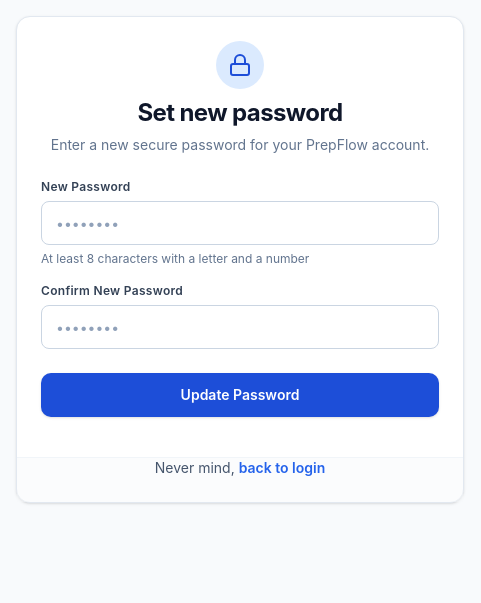
Test: Password Reset Pages Accessibility & Interactions (PF-008) › ResetPasswordPage › displays error alert when reset session is invalid or expired
Type "NewPassword123" into the password field labelled "New Password" at (240, 223), box [41, 201, 439, 245]
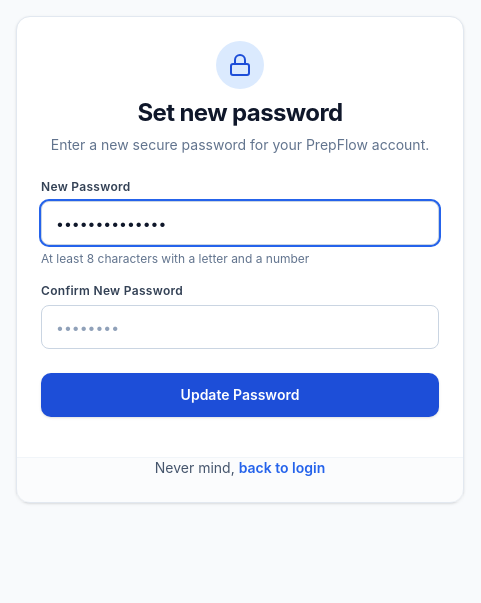
Type "NewPassword123" into the password field labelled "Confirm New Password" at (240, 327), box [41, 305, 439, 349]
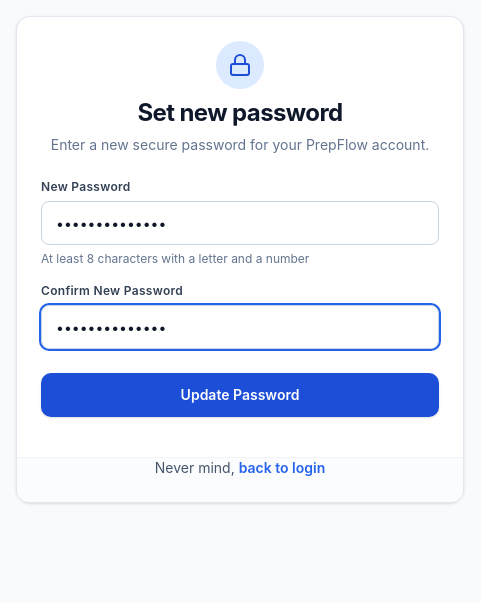
Click the button "Update Password" at (240, 395), box [41, 373, 439, 417]
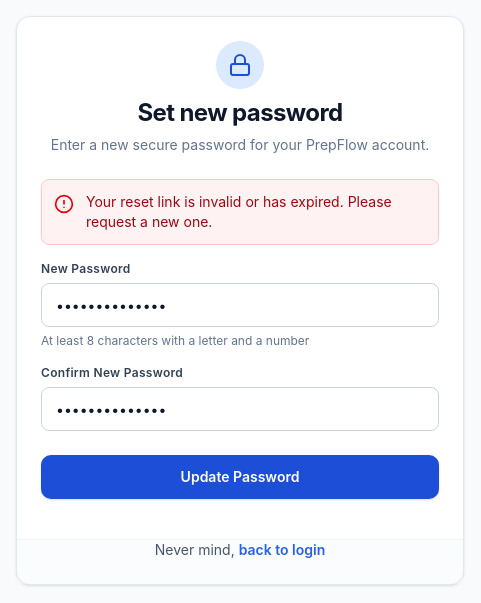
Expected: the message shows "invalid or has expired", [86, 193, 392, 230]
